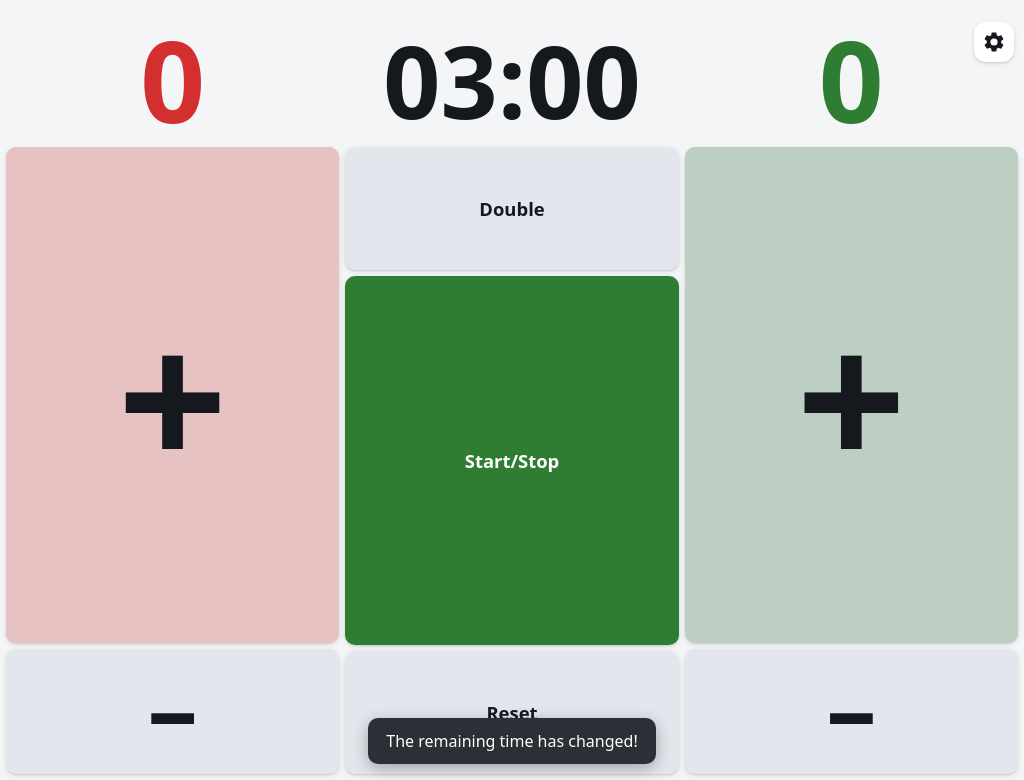
Scenario: scoring page › hides the settings button while the clock runs
The image size is (1024, 780).
What coordinates should you click on to do the following:
click the button "Start/Stop"
I would click on:
 (512, 460)
Its box is x1=345 y1=276 x2=679 y2=645.
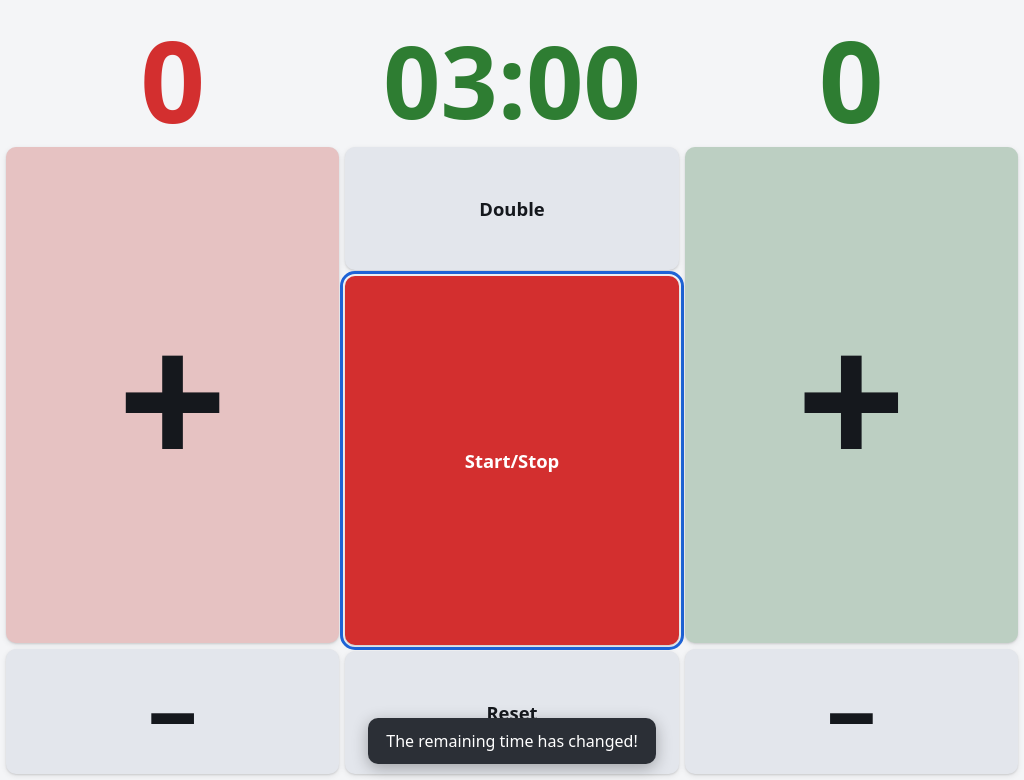
Now the link labelled "Settings" is gone
